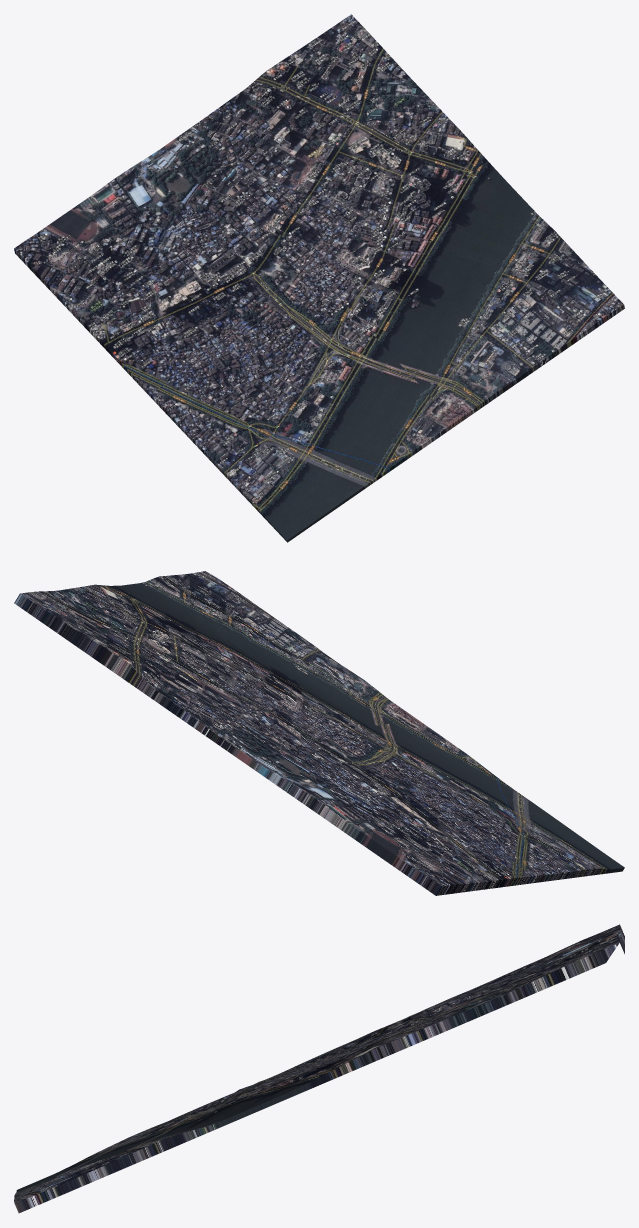
3 views of the same model, one above another, from view 1: azimuth 30°, elevation 25°; view 2: azimuth 150°, elevation 25°; view 3: azimuth 270°, elevation 25° (orthographic). The views are drawn at different scales.
Parts seen in each view (by area): view 1: 1_6_5; view 2: 1_6_5; view 3: 1_6_5.
Part boxes in pixels (bbox=[...]): 1_6_5: bbox=[14, 14, 624, 542]; 1_6_5: bbox=[14, 571, 624, 895]; 1_6_5: bbox=[14, 924, 624, 1213].
Size of the model in its own units: 1231 by 904 by 1128.
1 material, 1 textured.
